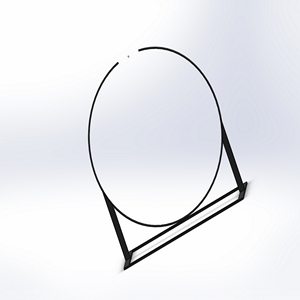circle: (84, 43, 249, 270)
